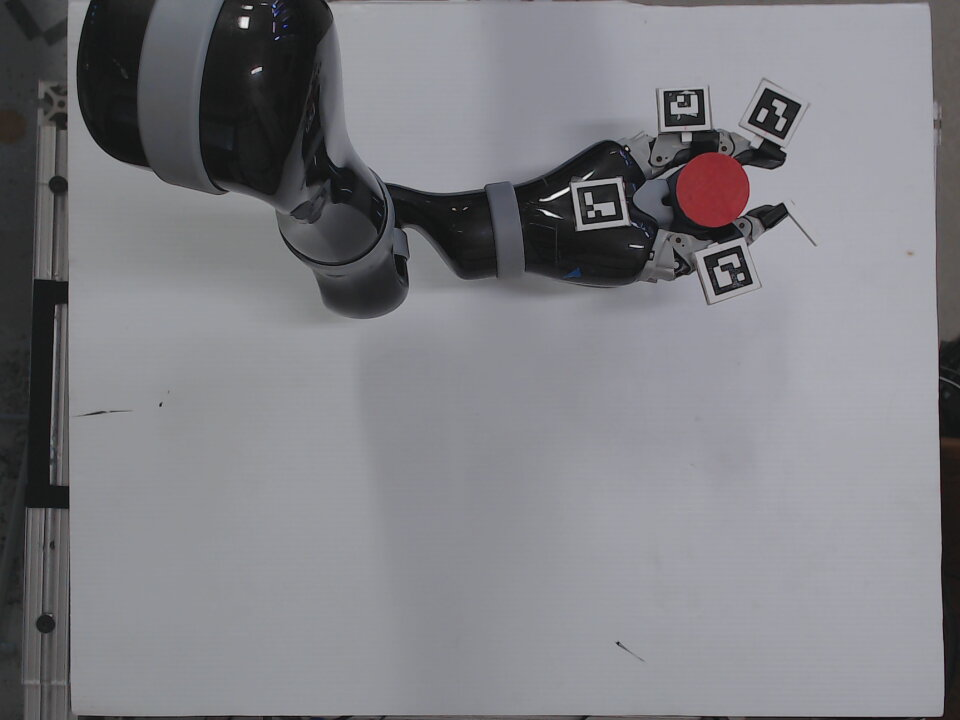cylinder: (665, 148, 755, 231)
